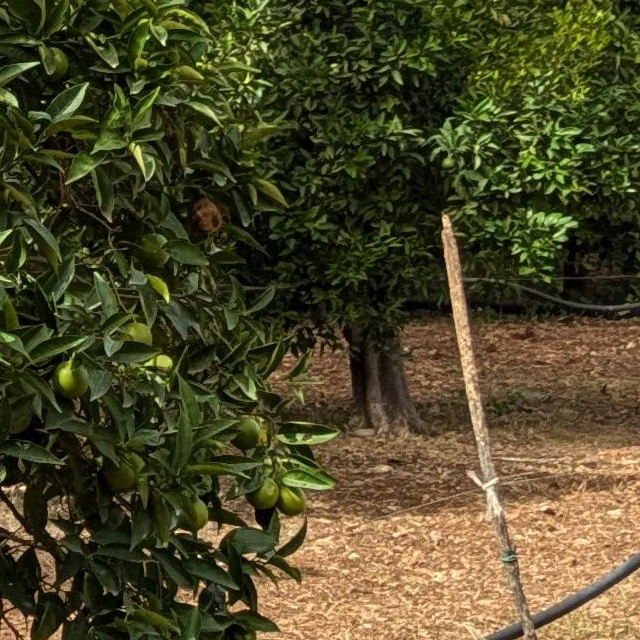orange: (53, 361, 93, 401), (168, 488, 208, 528), (228, 411, 266, 447), (270, 482, 306, 516), (105, 448, 131, 490), (246, 476, 280, 508), (122, 326, 160, 354)
